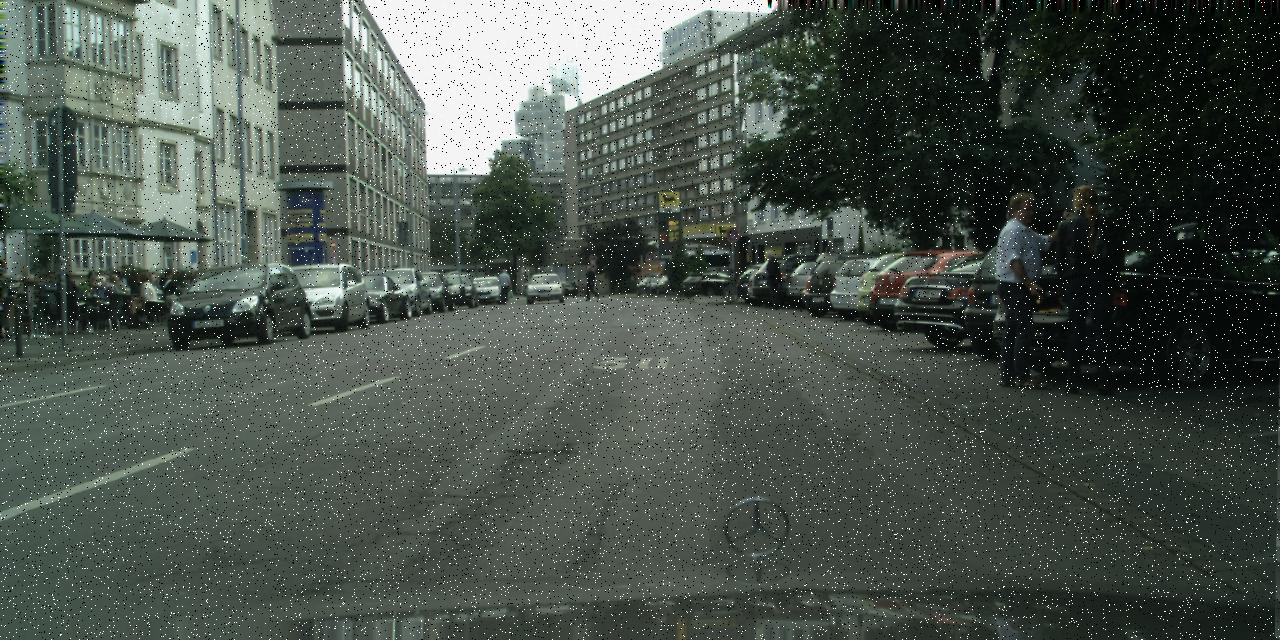ped: (1044, 184, 1129, 392), (981, 192, 1061, 387), (760, 250, 784, 308), (84, 270, 130, 296), (496, 268, 511, 304), (583, 266, 597, 298)
